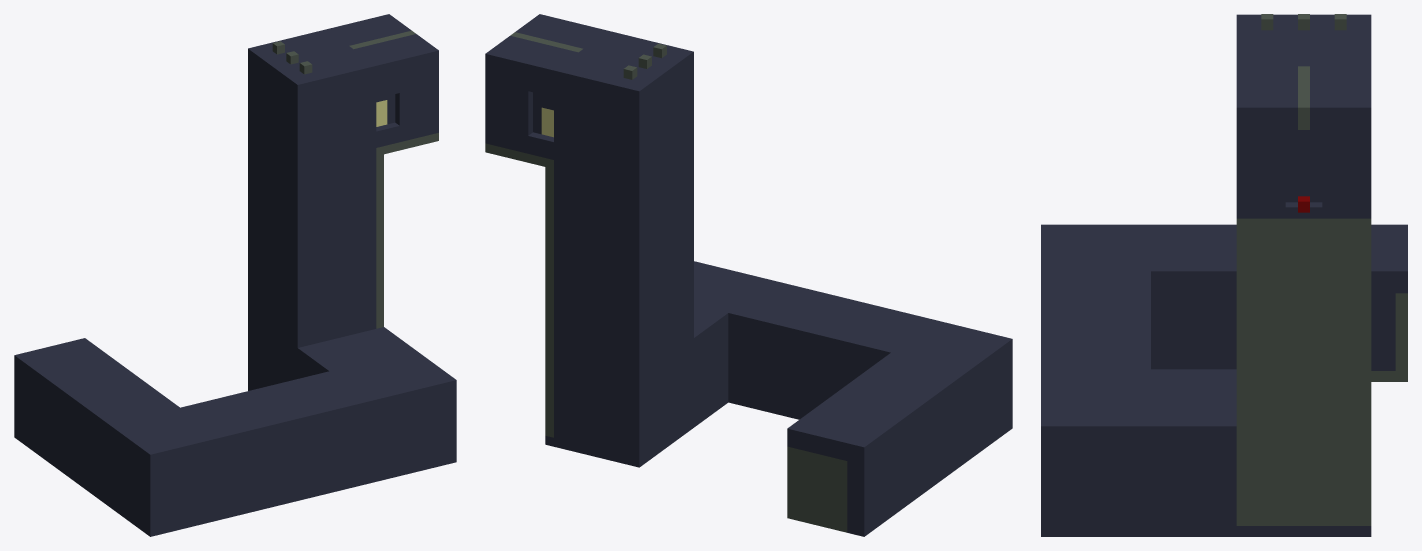
Rendered from snake.obj.
3 views of the same model, side by side, from view 1: azimuth 30°, elevation 25°; view 2: azimuth 150°, elevation 25°; view 3: azimuth 270°, elevation 25° (orthographic). The views are drawn at different scales.
Bounding box in the file's own units: 47 × 43 × 30.
Materials: 1 (1 with a texture image).
